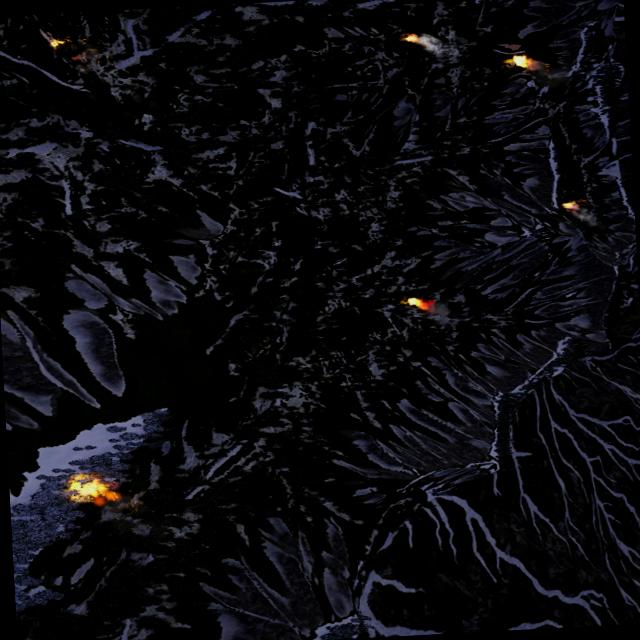fire: (68, 476, 109, 504), (508, 55, 532, 68), (403, 298, 428, 310), (45, 39, 67, 50), (402, 34, 418, 43), (560, 202, 578, 210)
smoke: (102, 494, 152, 539), (67, 37, 114, 69), (528, 58, 572, 90), (424, 298, 456, 328), (417, 32, 448, 59), (574, 207, 604, 229)
